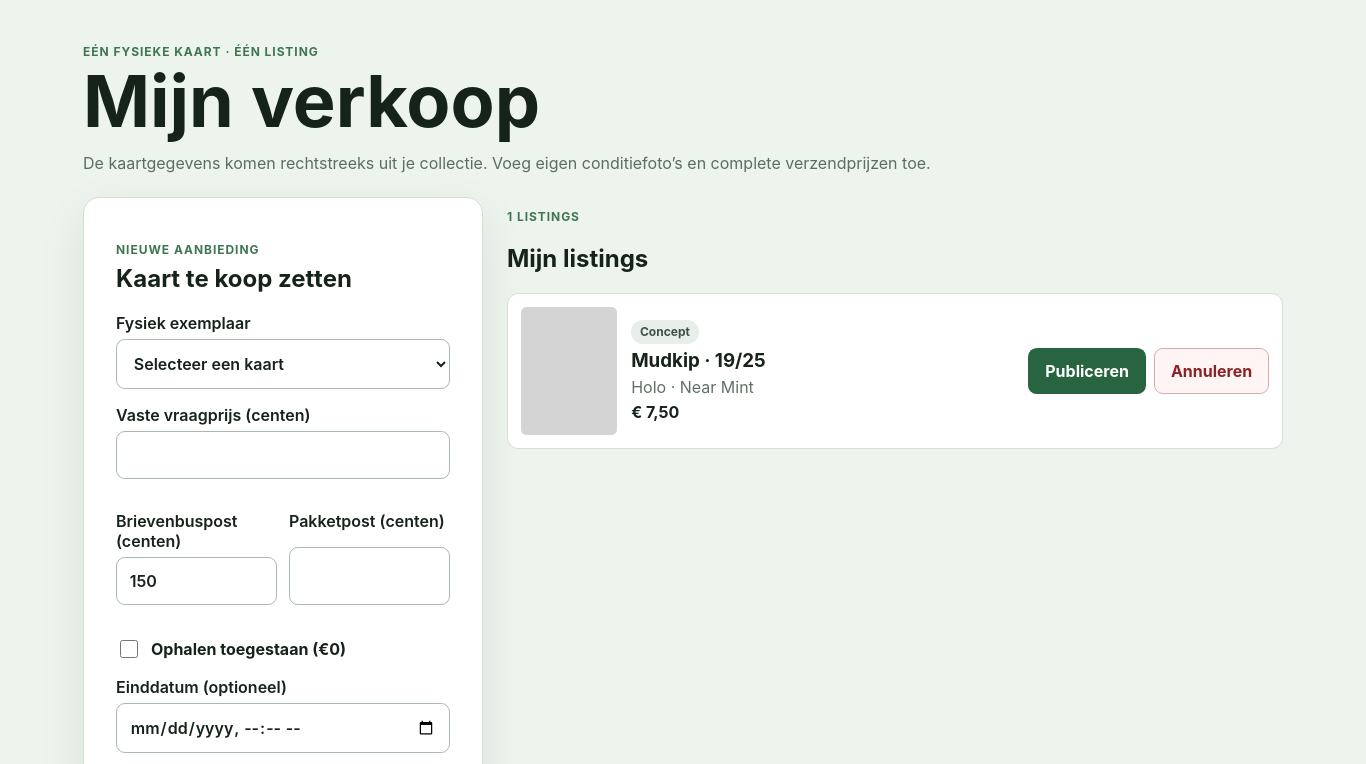
Scenario: MyListingsPage › surfaces a lifecycle conflict and refreshes the seller listing state
This screenshot has width=1366, height=764.
Click the button "Publiceren": (1087, 371) [1028, 348, 1146, 394]
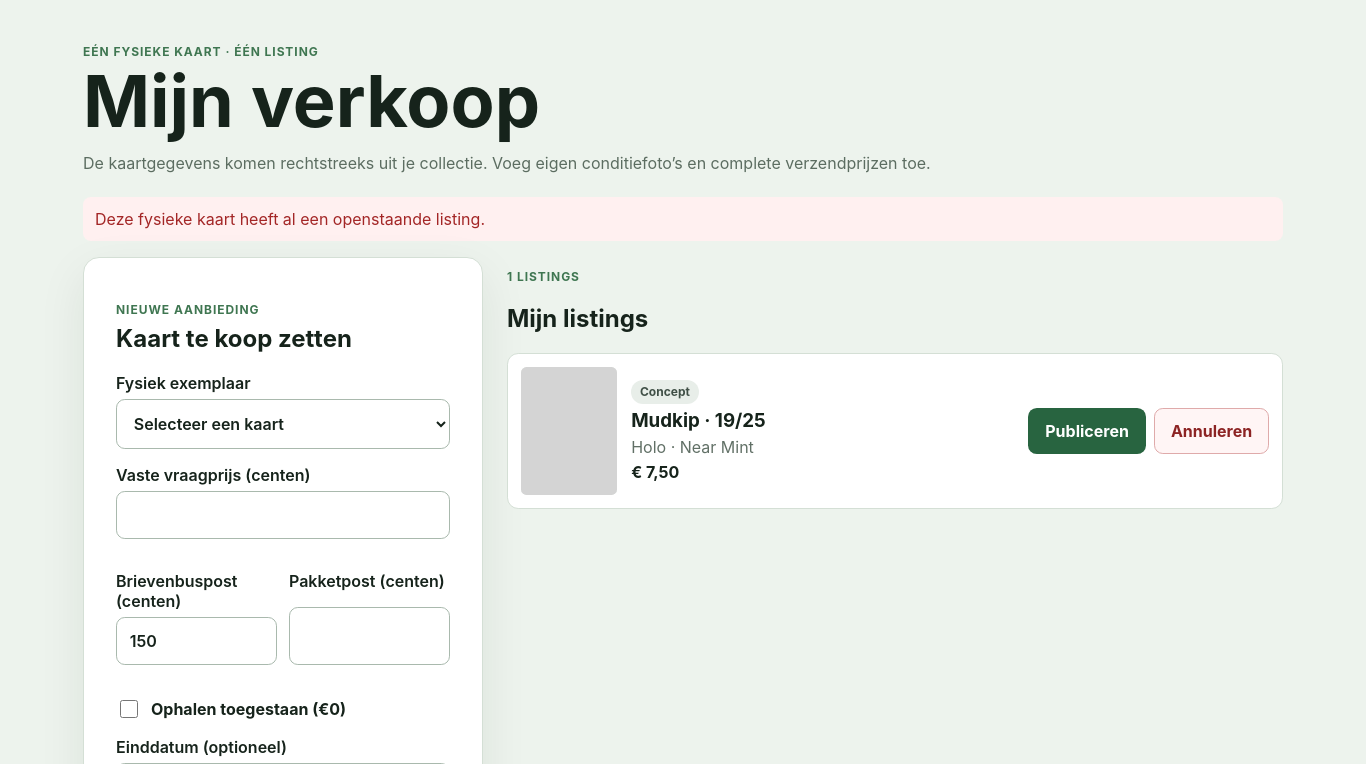
Now the message "Deze fysieke kaart heeft al een openstaande listing." is shown, box [83, 197, 1283, 241]
